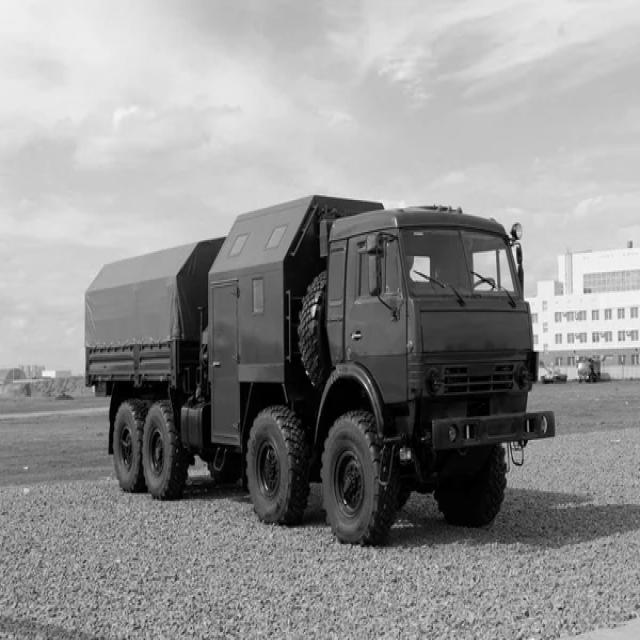Truck: (85, 195, 556, 545)
